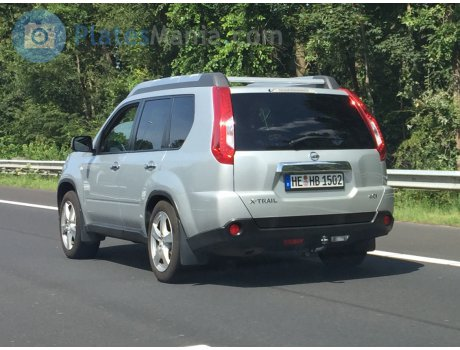License Plates: (291, 175, 344, 184)
